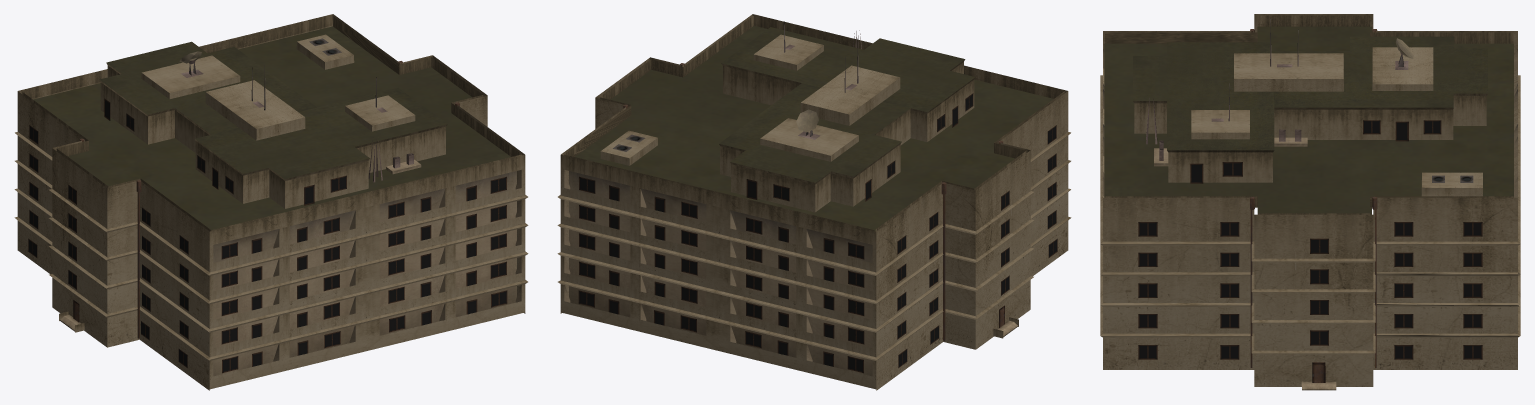
File: ORB_1_S5_Detail_2.fbx
3 views of the same model, side by side, from view 1: azimuth 30°, elevation 25°; view 2: azimuth 150°, elevation 25°; view 3: azimuth 270°, elevation 25° (orthographic). The views are drawn at different scales.
Parts seen in each view (by area): view 1: ORB_1_S5_Detail_2; view 2: ORB_1_S5_Detail_2; view 3: ORB_1_S5_Detail_2.
Part boxes in pixels (x1,y1,x2,y2): ORB_1_S5_Detail_2: (14, 14, 528, 390); ORB_1_S5_Detail_2: (557, 14, 1071, 390); ORB_1_S5_Detail_2: (1100, 14, 1520, 390).
Bounding box in the file's own units: 4154 × 2342 × 3491.
